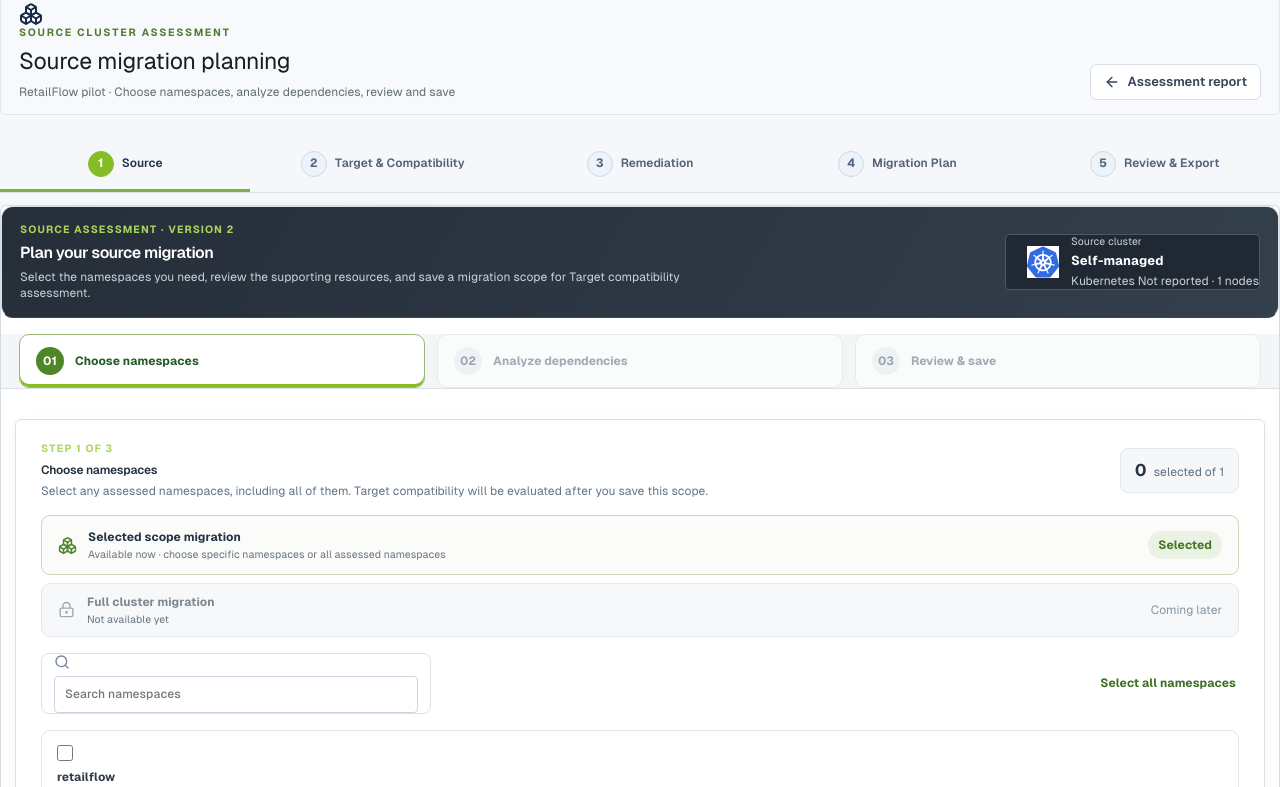
migration planning › scopes remediation findings to the chosen namespace and resets the detail selection
Click the button "Select all namespaces" at {"x": 1168, "y": 683}, box [1097, 669, 1239, 698]
(page scrolled)
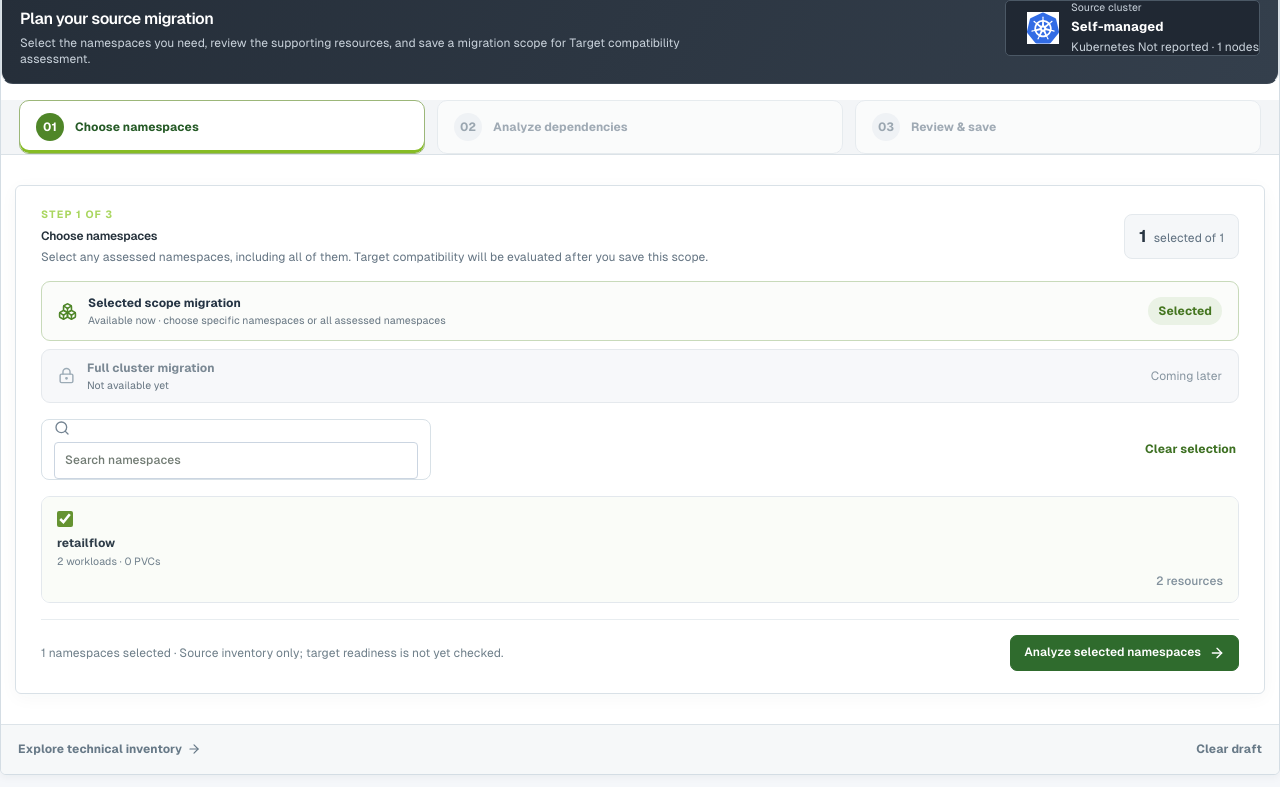
Click the button "Explore technical inventory" at {"x": 110, "y": 749}, box [15, 735, 204, 764]
(page scrolled)
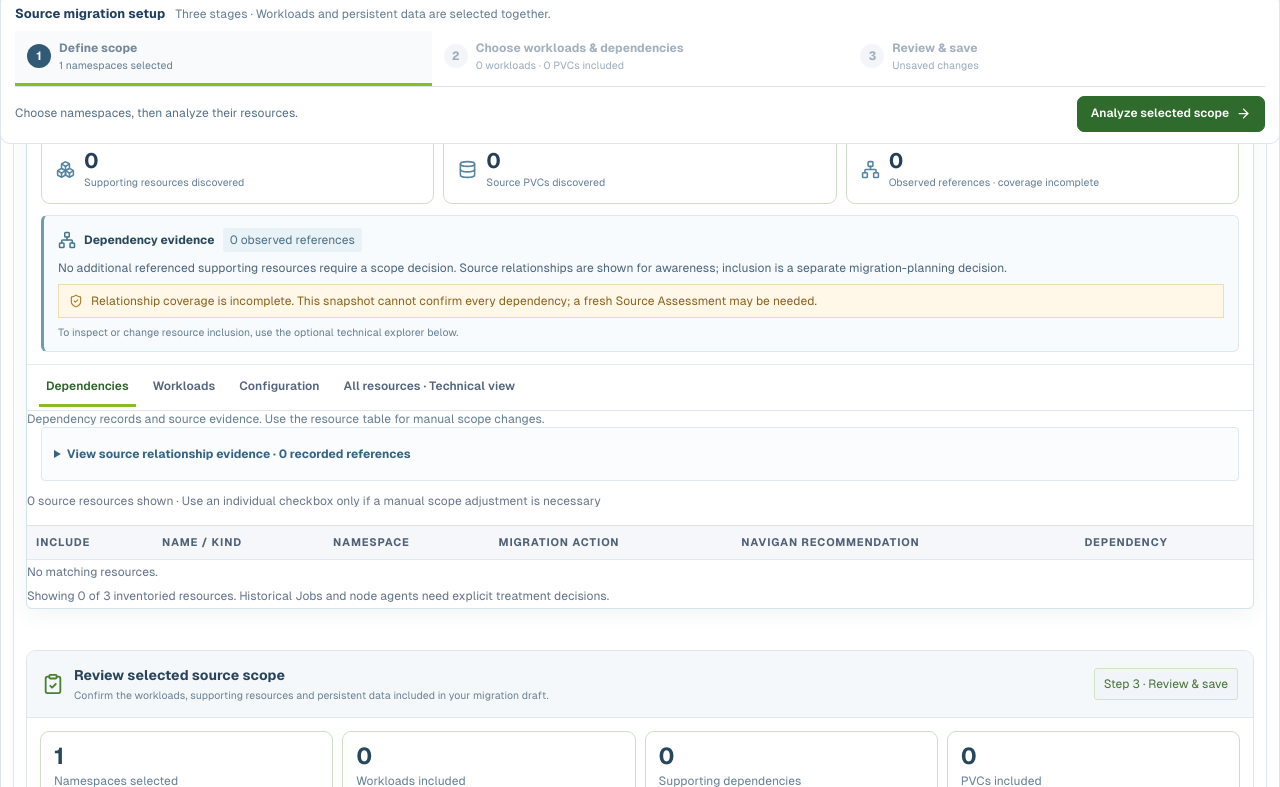
Click the button "All resources · Technical view" at {"x": 429, "y": 387}, box [336, 368, 522, 407]
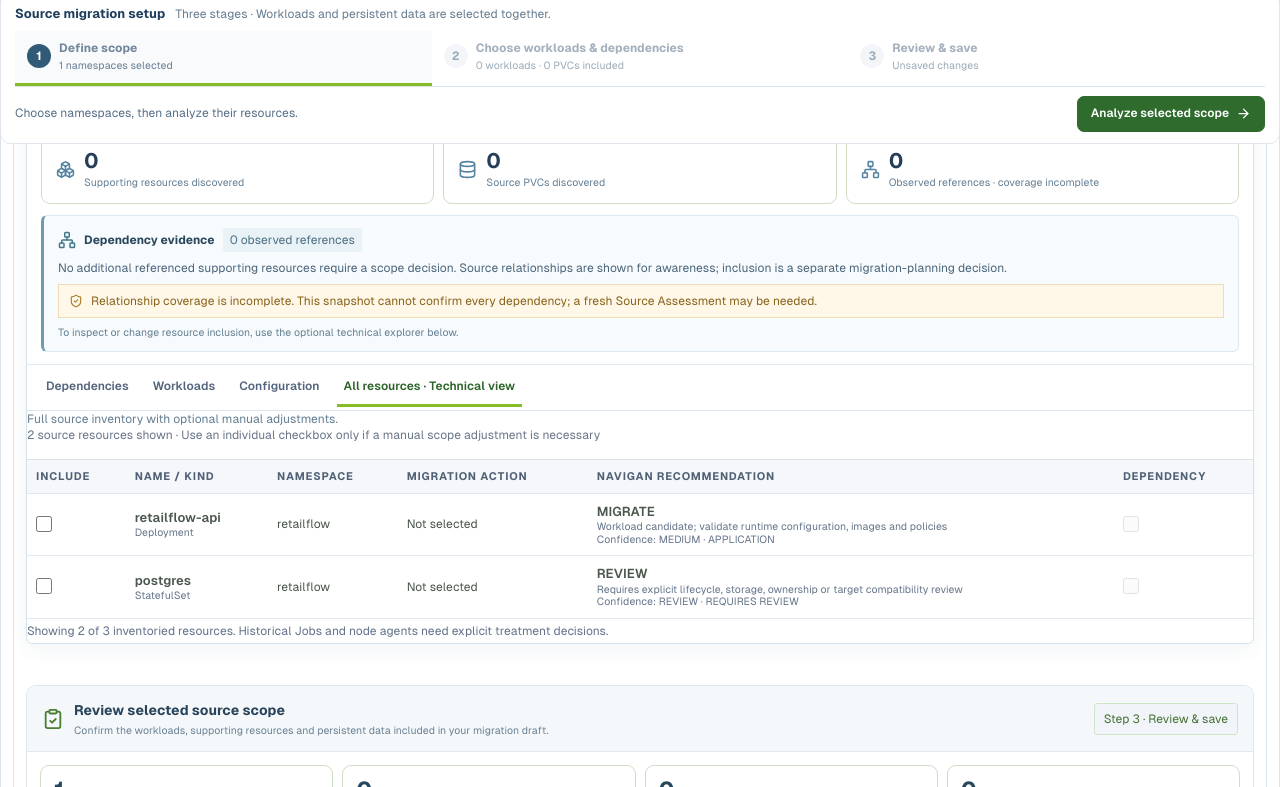
Click the checkbox named "Include StatefulSet retailflow/postgres" at {"x": 44, "y": 586}, box [36, 578, 52, 594]
(page scrolled)
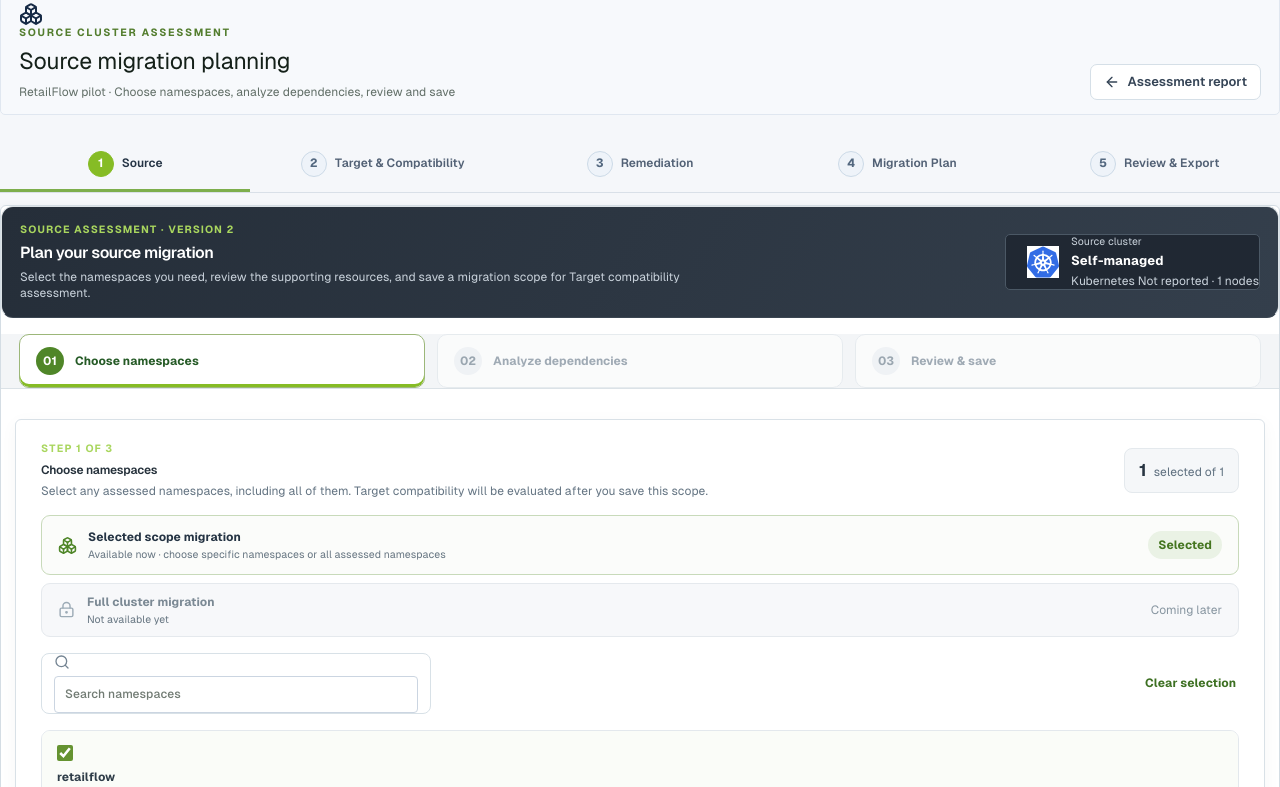
Click the button "3 Remediation" at {"x": 640, "y": 165}, box [515, 139, 765, 192]
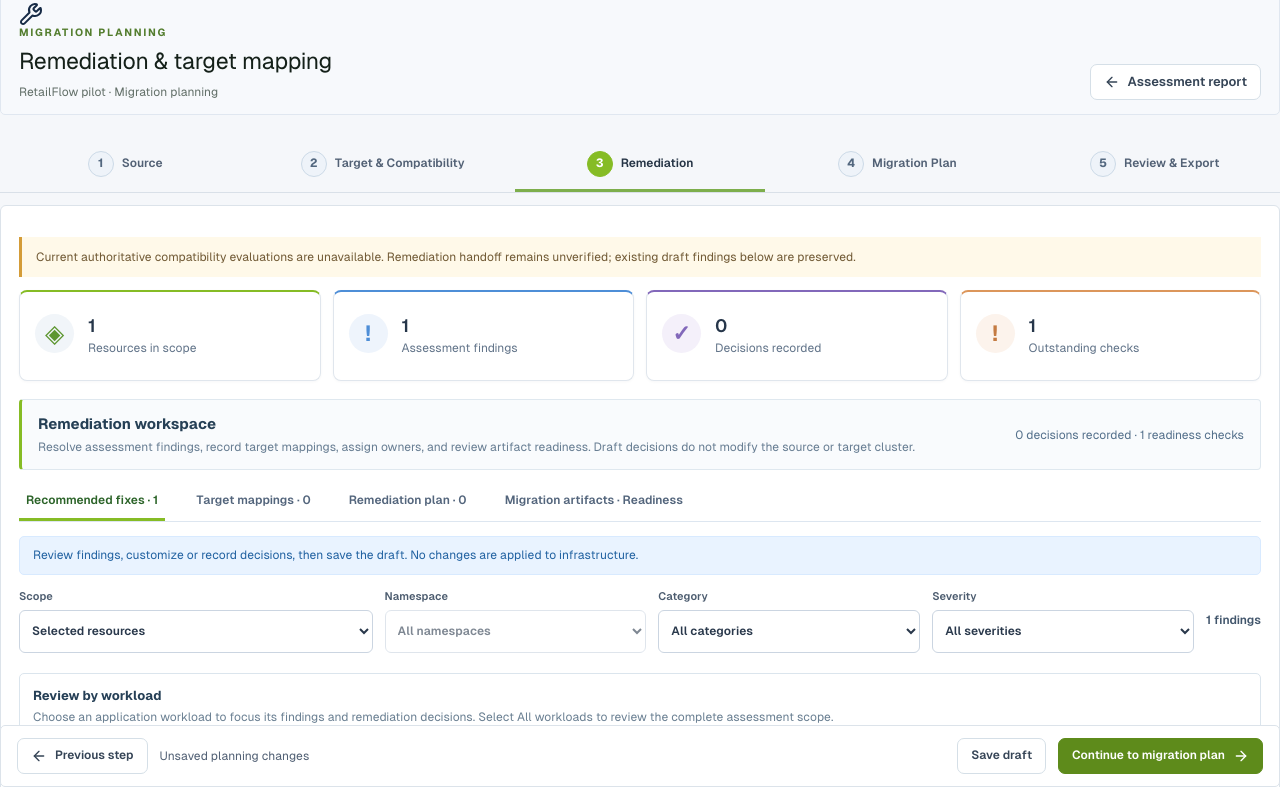
expect the dropdown named "Findings view" shows "Selected resources": met, box [19, 610, 372, 652]
expect the dropdown named "Remediation namespace" is disabled: met, box [384, 610, 646, 652]
